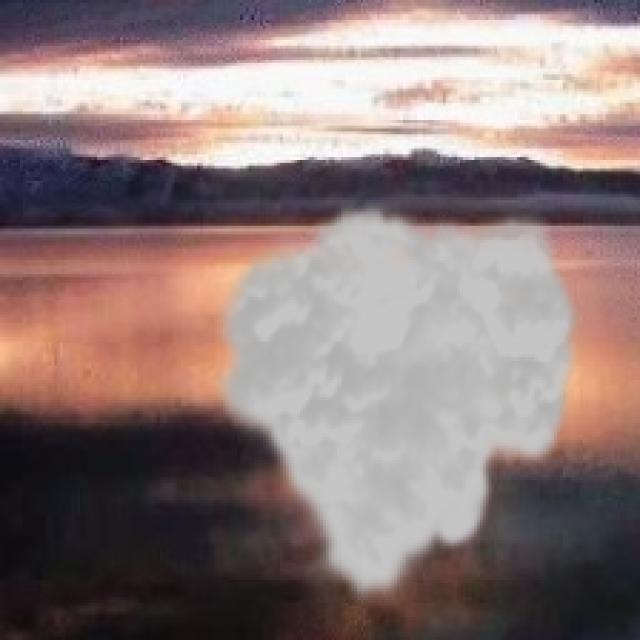smoke: (205, 200, 586, 609)
